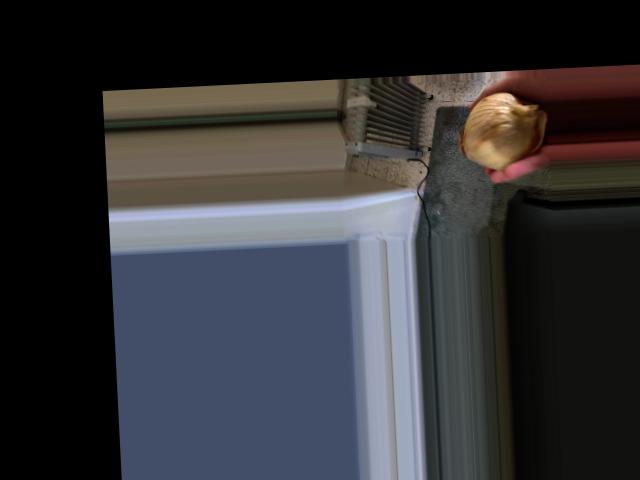onion: (454, 85, 543, 170)
